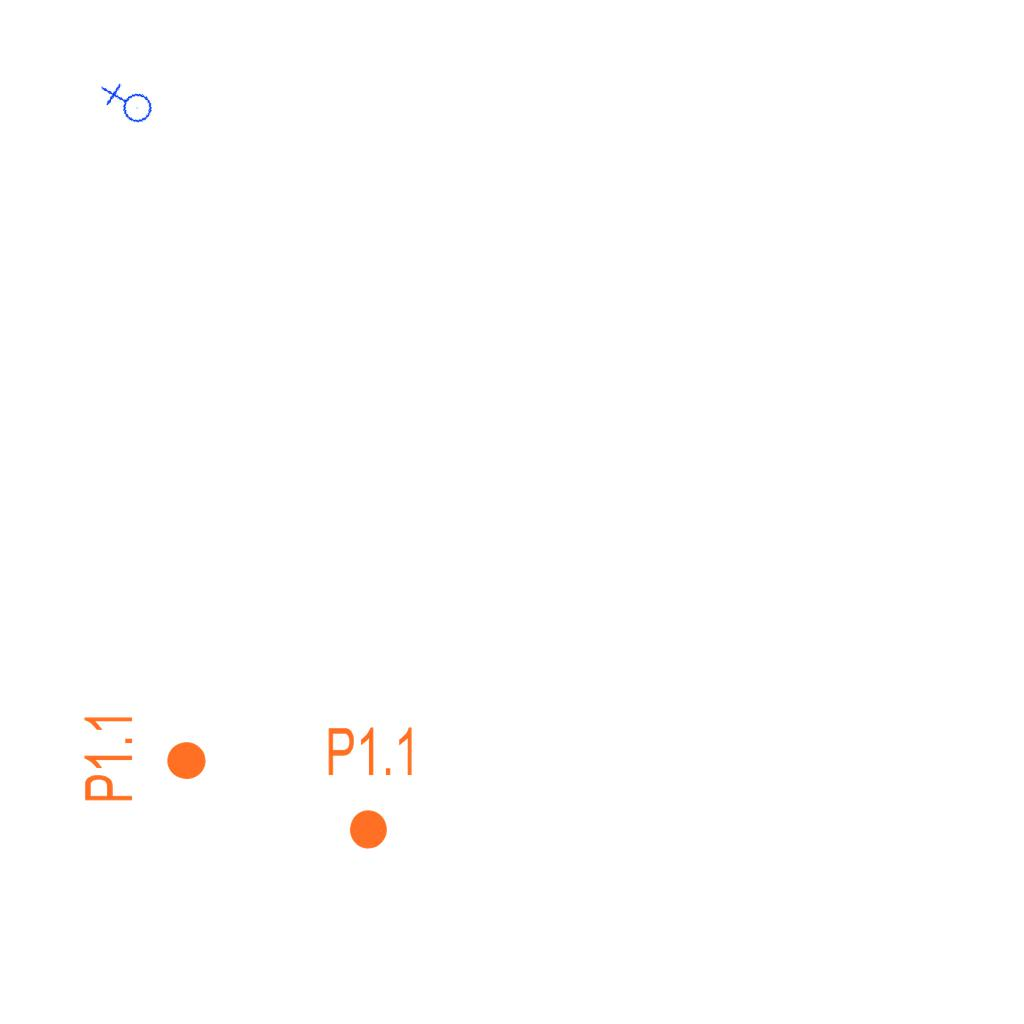Downlight_LED_Einbauleuchten_Flur: (81, 711, 209, 804), (325, 724, 418, 852)
Elektroanschluss_allgemein_230V_Geraeteanschlussdose_230V: (98, 74, 157, 135)
